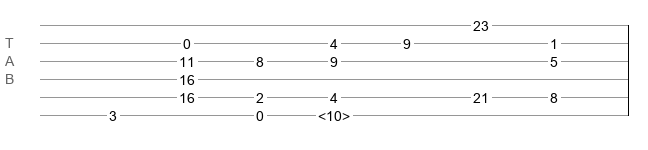0: (183, 36, 191, 46), (256, 108, 264, 118)
1: (550, 36, 558, 46)
11: (179, 54, 195, 64)
16: (179, 90, 195, 100), (179, 72, 195, 82)
2: (256, 90, 264, 100)
21: (473, 90, 489, 100)
23: (473, 18, 489, 28)
3: (109, 108, 117, 118)
4: (330, 36, 338, 46), (330, 90, 338, 100)
5: (550, 54, 558, 64)
8: (256, 54, 264, 64), (550, 90, 558, 100)
9: (330, 54, 338, 64), (403, 36, 411, 46)
harmonic: (318, 108, 350, 118)
